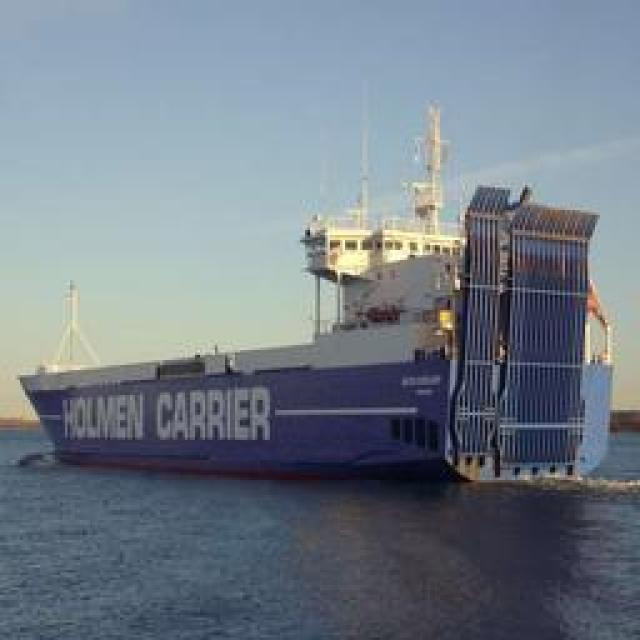CIV_Ship: (35, 112, 615, 486)
